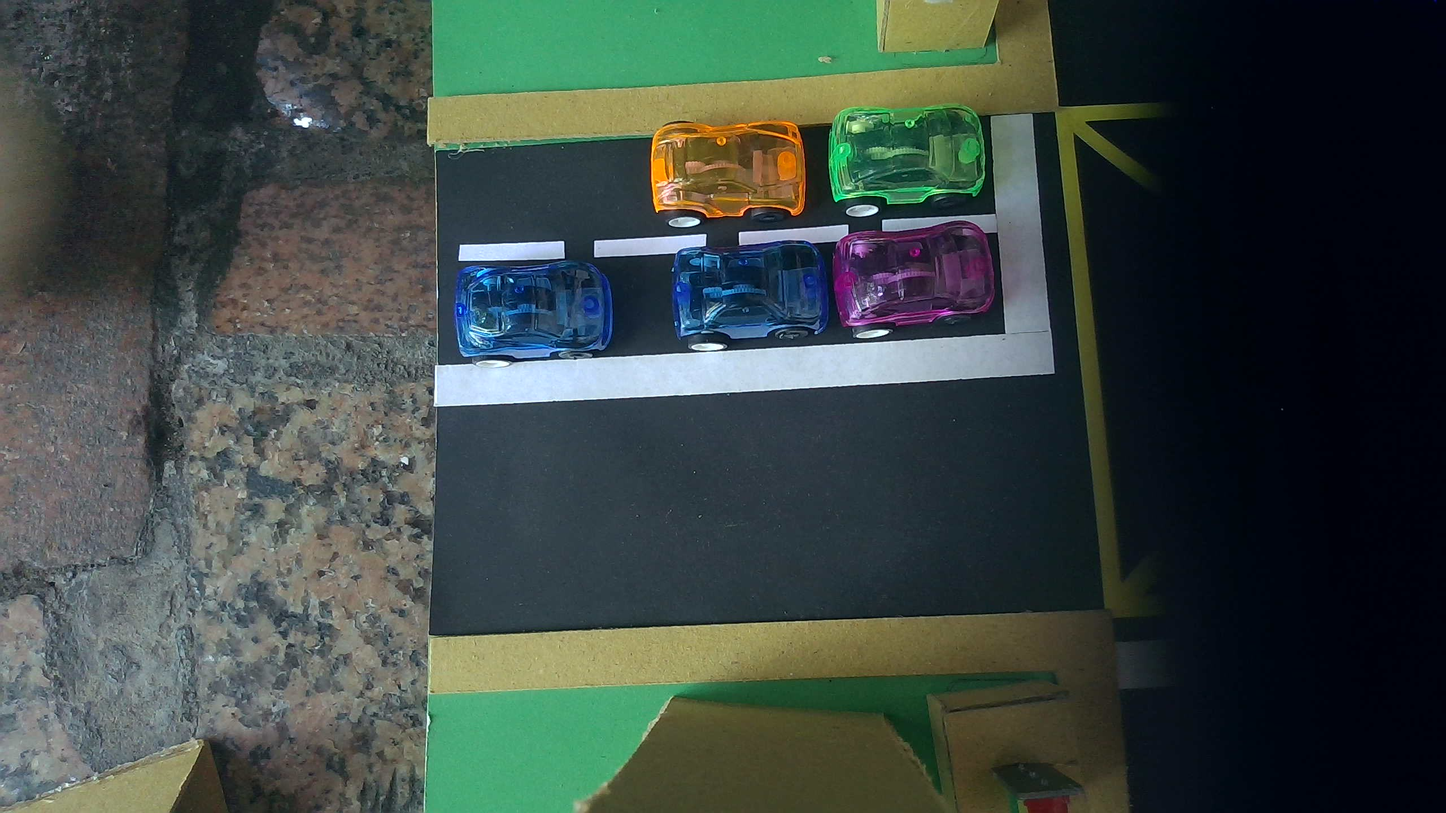Mobil biru: (671, 240, 828, 351), (453, 260, 612, 367)
Mobil hijau: (828, 105, 986, 207)
Mobil orange: (650, 120, 807, 222)
Mobil ungu: (833, 221, 995, 339)
